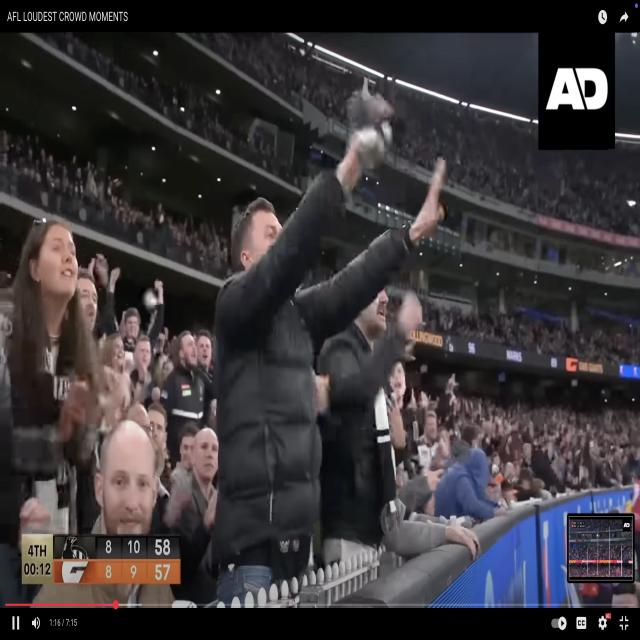crowd: (1, 126, 640, 584), (0, 98, 229, 278), (48, 29, 310, 177), (187, 32, 453, 144), (445, 109, 640, 236), (422, 259, 640, 369)
